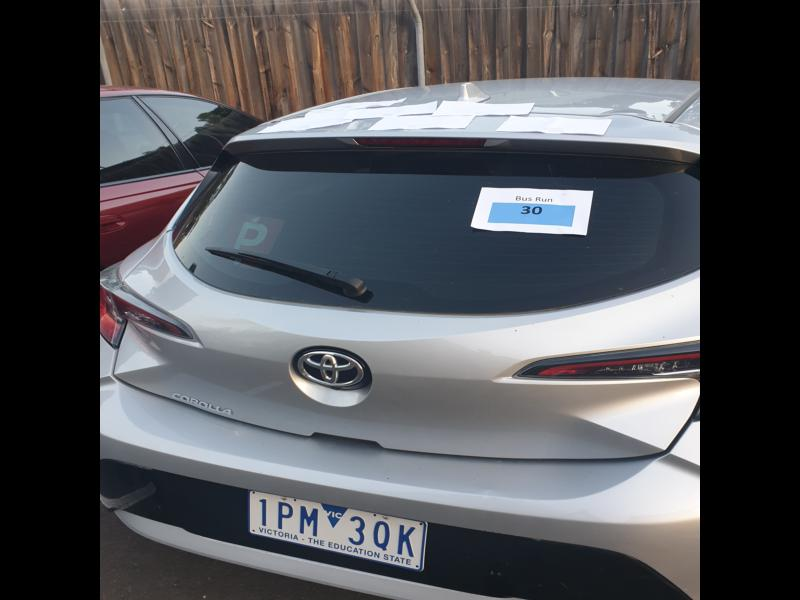BusRun: (486, 202, 577, 225)
PlateNo: (242, 489, 422, 567)
